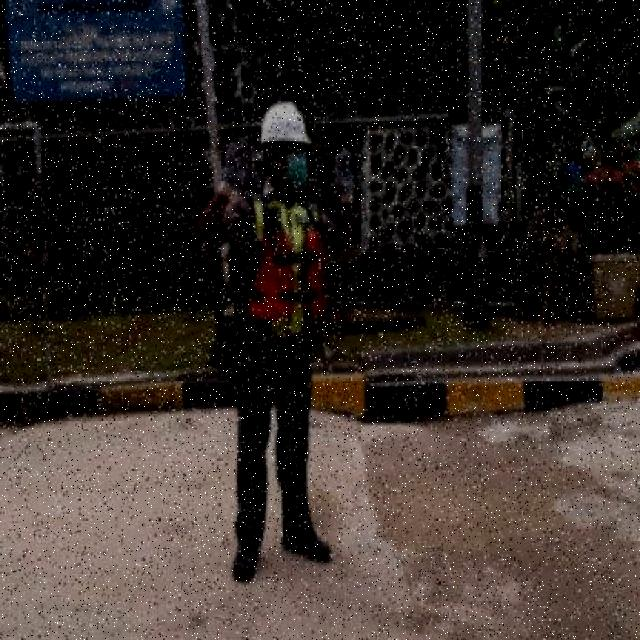Boots: (280, 522, 336, 564), (232, 530, 258, 584)
Gloves: (218, 134, 258, 202), (331, 146, 358, 206)
Helmet: (258, 102, 314, 144)
Mask: (245, 228, 328, 324)
